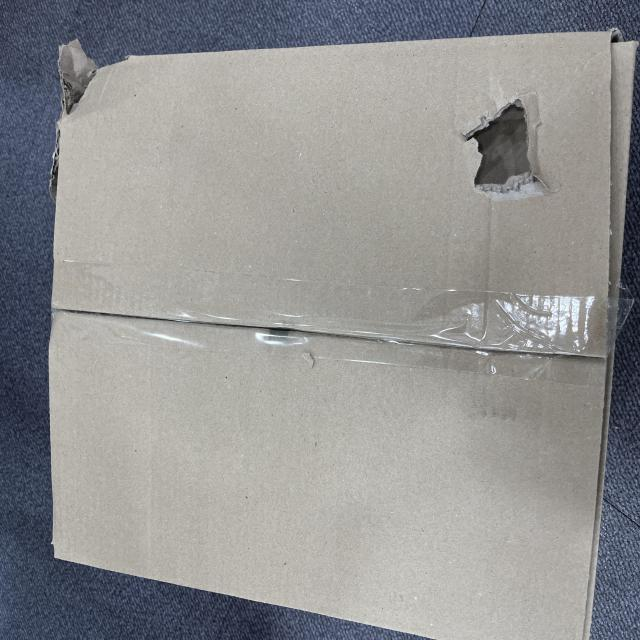damaged: (389, 82, 439, 136), (326, 612, 418, 640)
